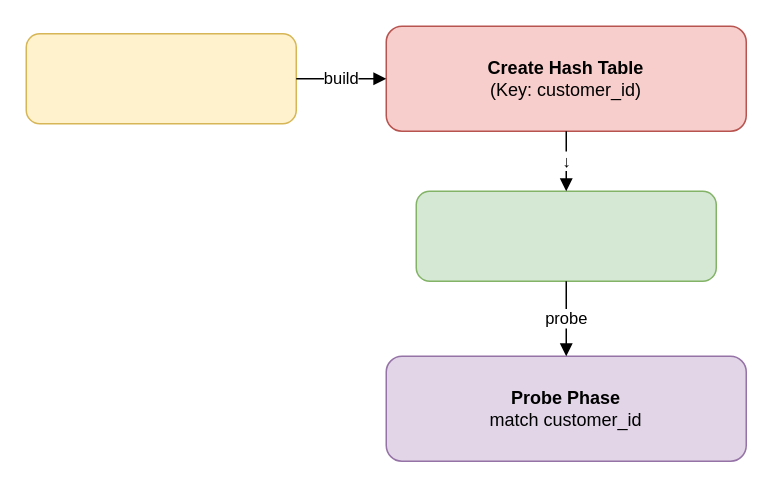
The diagram is 773 pixels wide and 488 high, and some of its shapes have lost their labels. Here are the shapes that lost their labels. From the top down, the centre of each, then its label:
At [160,78]: "Small Table: customers".
At [565,235]: "Large Table: orders".
